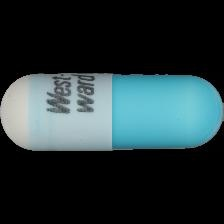0143-3367: (0, 0, 224, 224)
